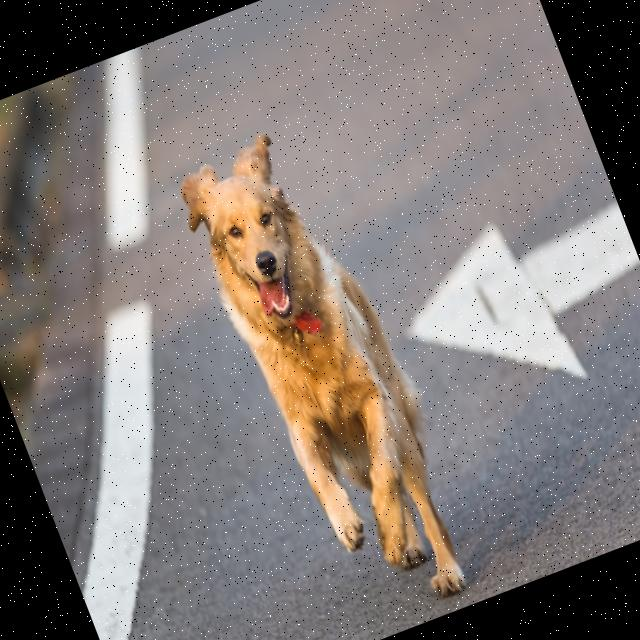Dog: (164, 110, 498, 634)
